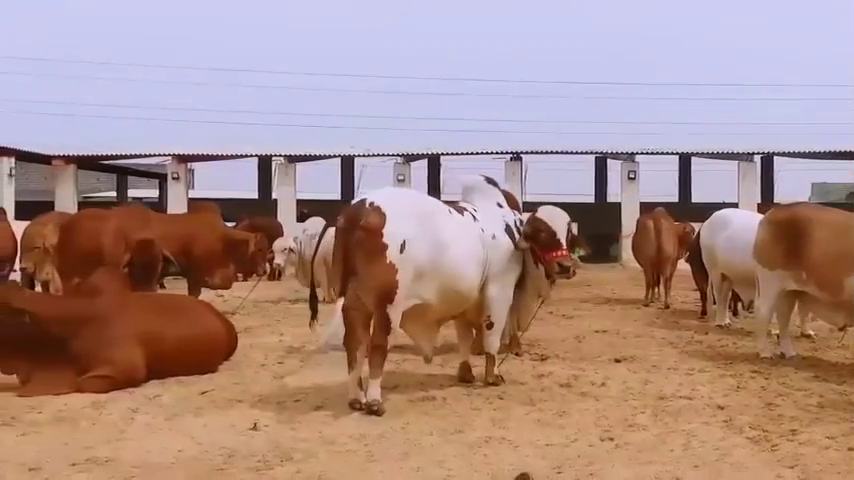bo: (305, 148, 602, 431), (2, 268, 251, 403), (682, 192, 827, 346), (734, 189, 853, 374), (141, 191, 270, 307), (48, 178, 172, 297), (258, 201, 346, 306), (615, 193, 691, 308), (14, 204, 70, 297)
